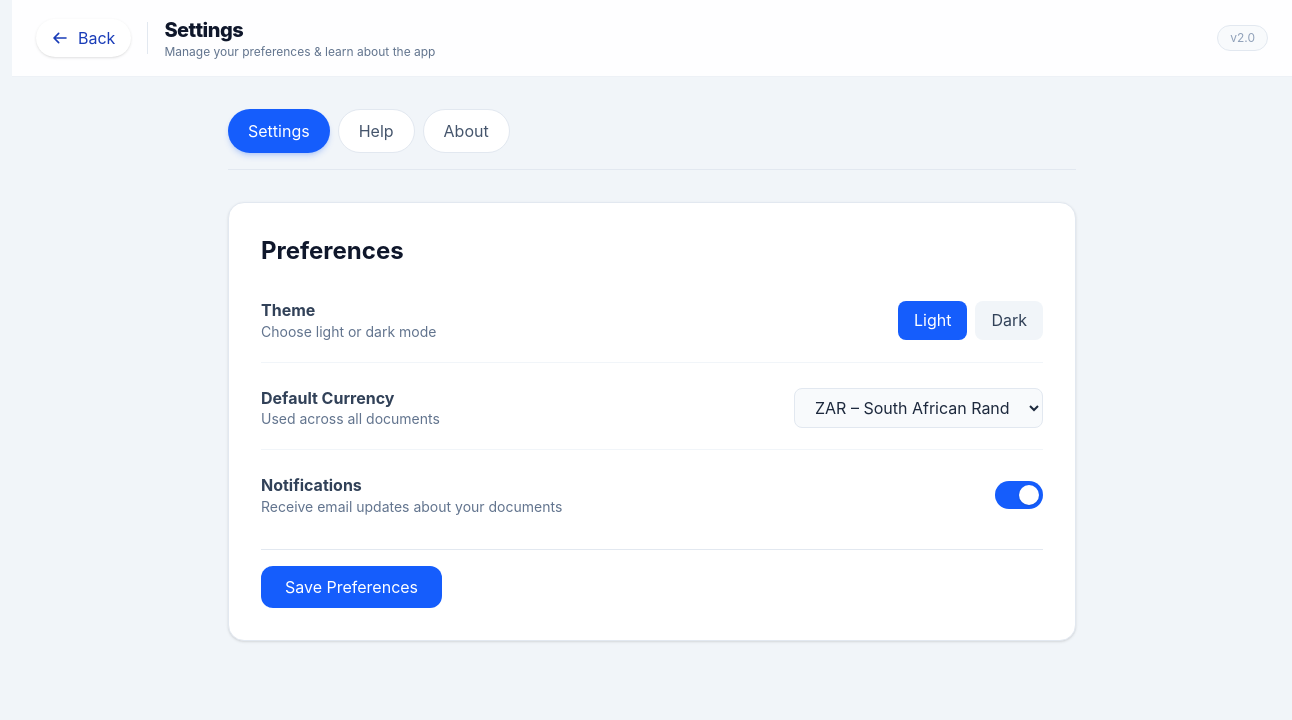
Test: About panel › navigates to About when its tab is selected
What coordinates should you click on to do the following:
click the button "about"
I would click on:
 (466, 131)
Its box is [422,109,510,153].
(page scrolled)
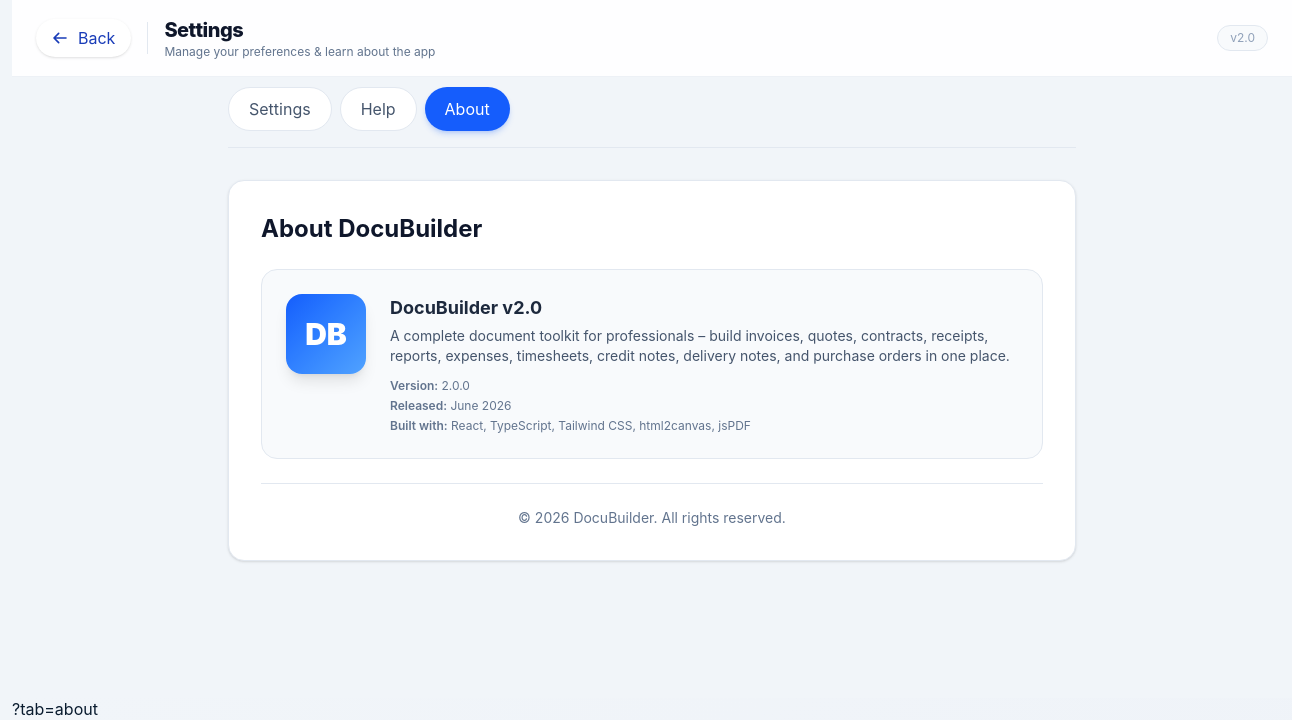
Expected: the heading "About DocuBuilder" is shown, [261,214,482,243]
Expected: the text with test id "current-search" reads "?tab=about", [12,699,98,719]
